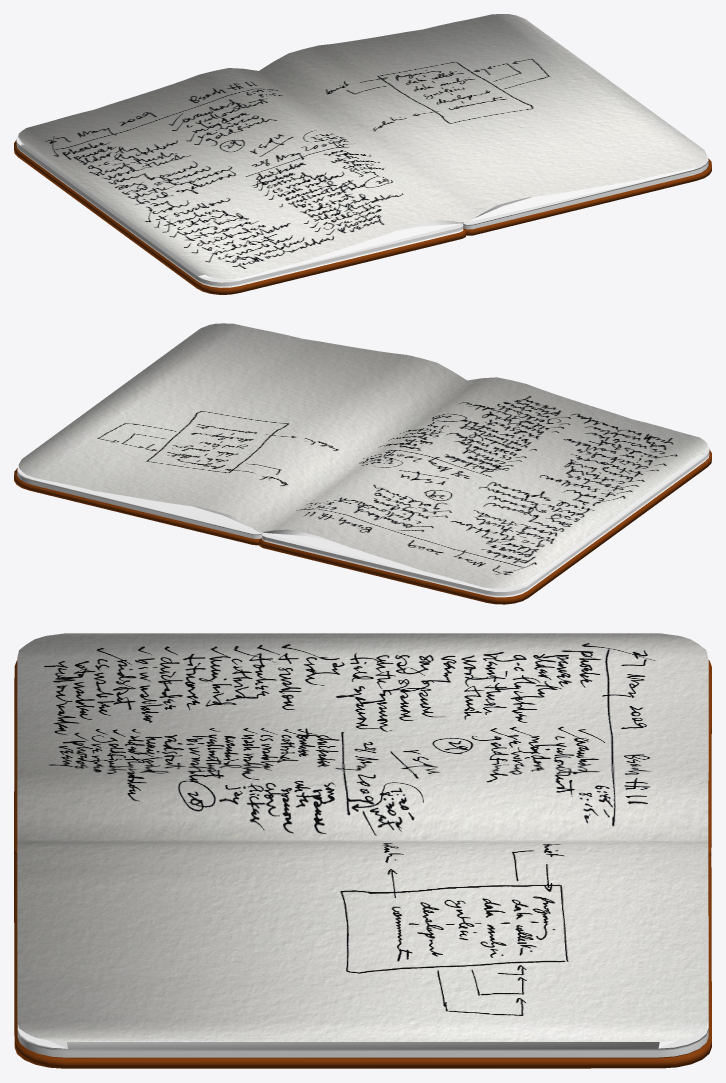
Rendered from Open Diary.fbx.
The picture shows the model from 3 angles, top to bottom: view 1: azimuth 30°, elevation 25°; view 2: azimuth 150°, elevation 25°; view 3: azimuth 270°, elevation 25°; orthographic projection. The views are drawn at different scales.
Visible parts, largest first — view 1: Open Diary; view 2: Open Diary; view 3: Open Diary.
Boxes of the visible parts, x1,y1,x2,y2 form: Open Diary: [14, 14, 711, 294]; Open Diary: [14, 323, 711, 604]; Open Diary: [14, 633, 711, 1068].
Bounding box in the file's own units: 40.99 × 1.89 × 29.17.
